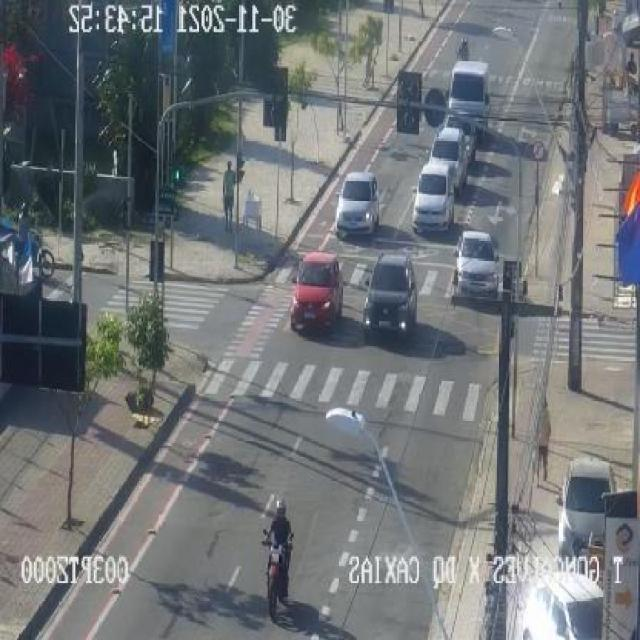Bus: (447, 60, 493, 130)
Car: (368, 254, 419, 360), (290, 246, 338, 336), (329, 162, 378, 239), (456, 231, 496, 317), (436, 118, 471, 166)
Cycle: (238, 491, 306, 610), (17, 205, 72, 277), (449, 32, 476, 57)
Van: (411, 165, 461, 227)
